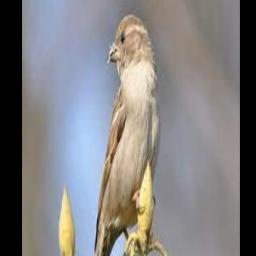Sparrow: (91, 13, 161, 256)
